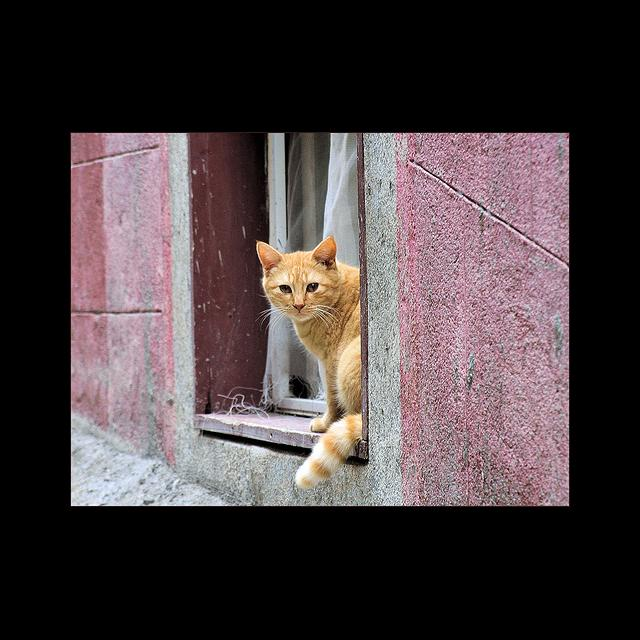animals: (258, 236, 335, 310)
